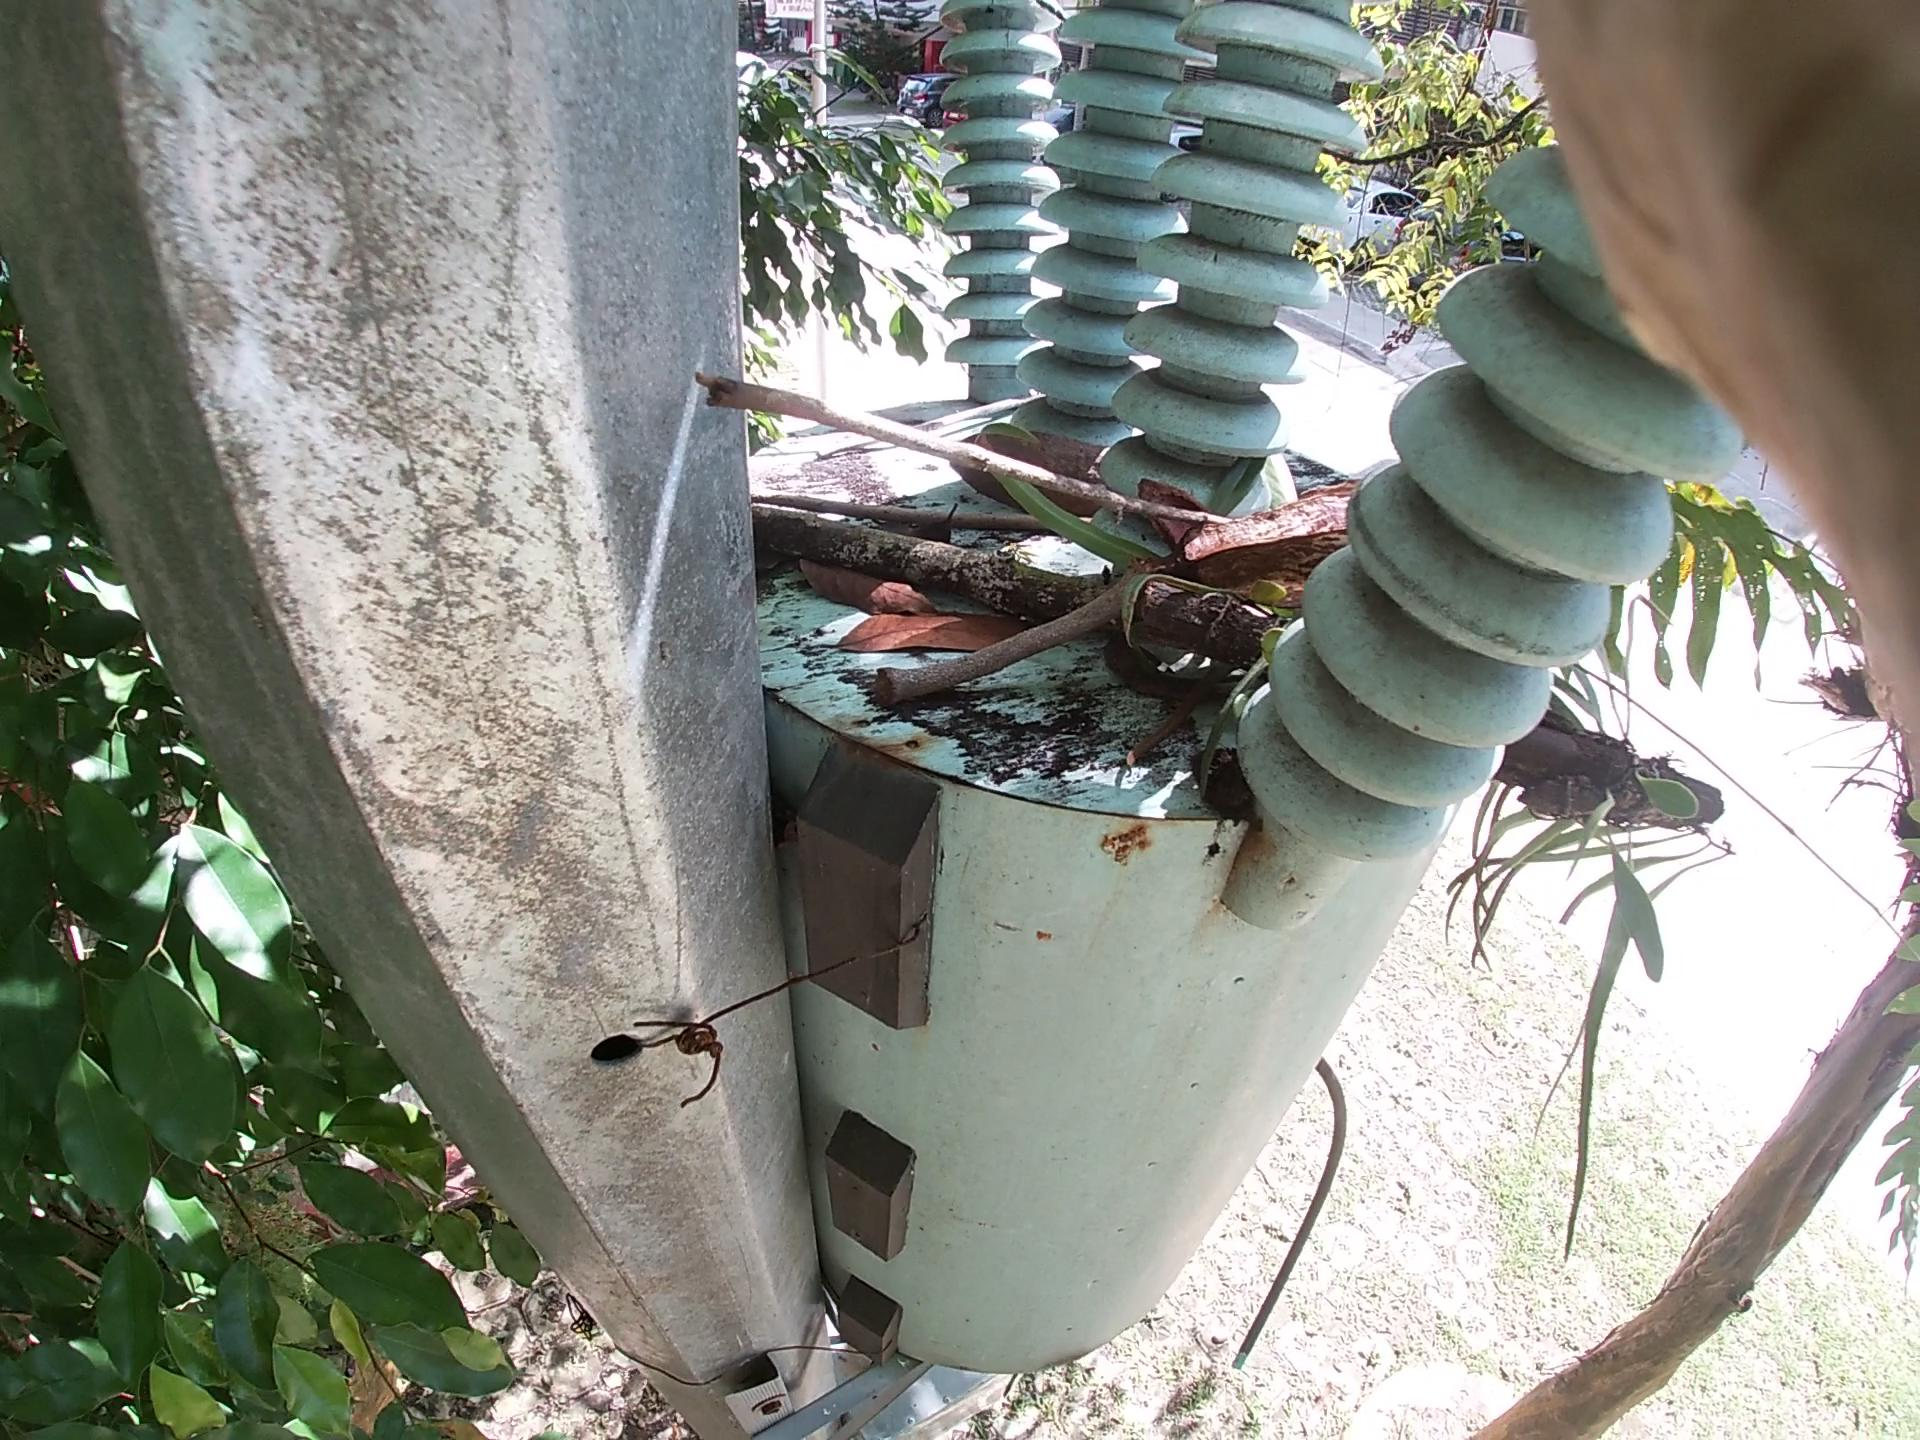branch with leaves: (741, 483, 1764, 861)
leaf: (773, 560, 1008, 735)
mahogany fruit: (1092, 452, 1451, 610), (918, 386, 1134, 597)
tree branch: (692, 346, 1370, 640), (822, 542, 1327, 715), (748, 451, 1092, 579), (900, 299, 1048, 440)
